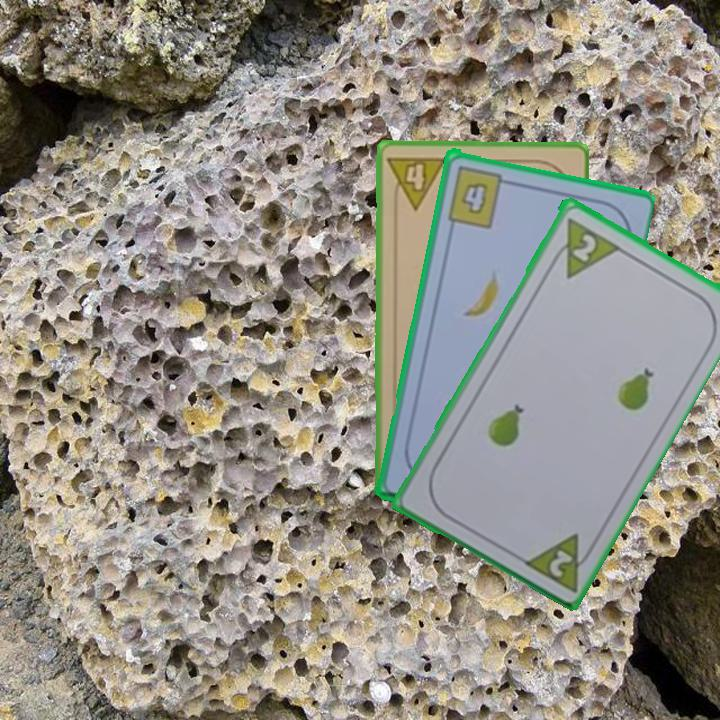2p: (518, 529, 600, 594), (568, 229, 599, 264)
4b: (444, 161, 514, 230)
4p: (384, 152, 449, 212)
